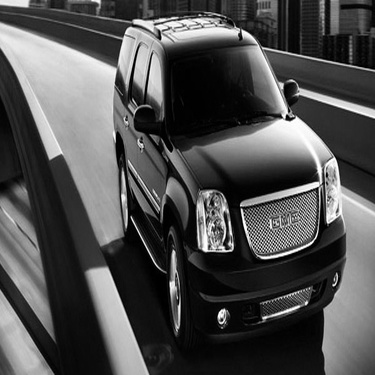car: (86, 6, 357, 352)
